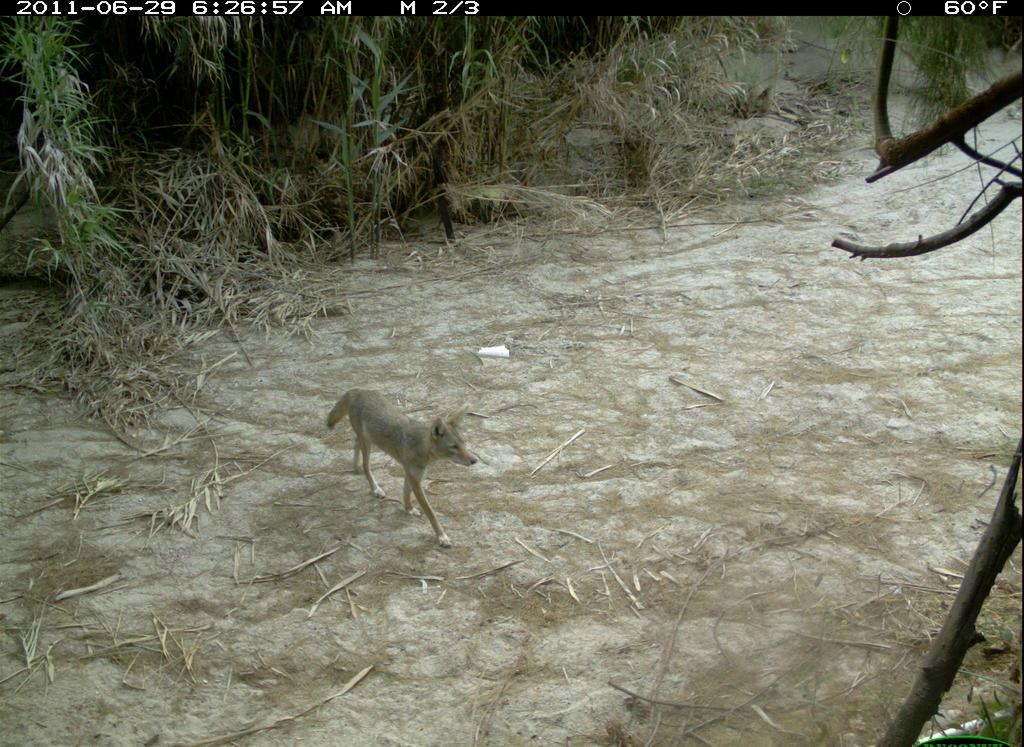coyote: (319, 385, 484, 557)
